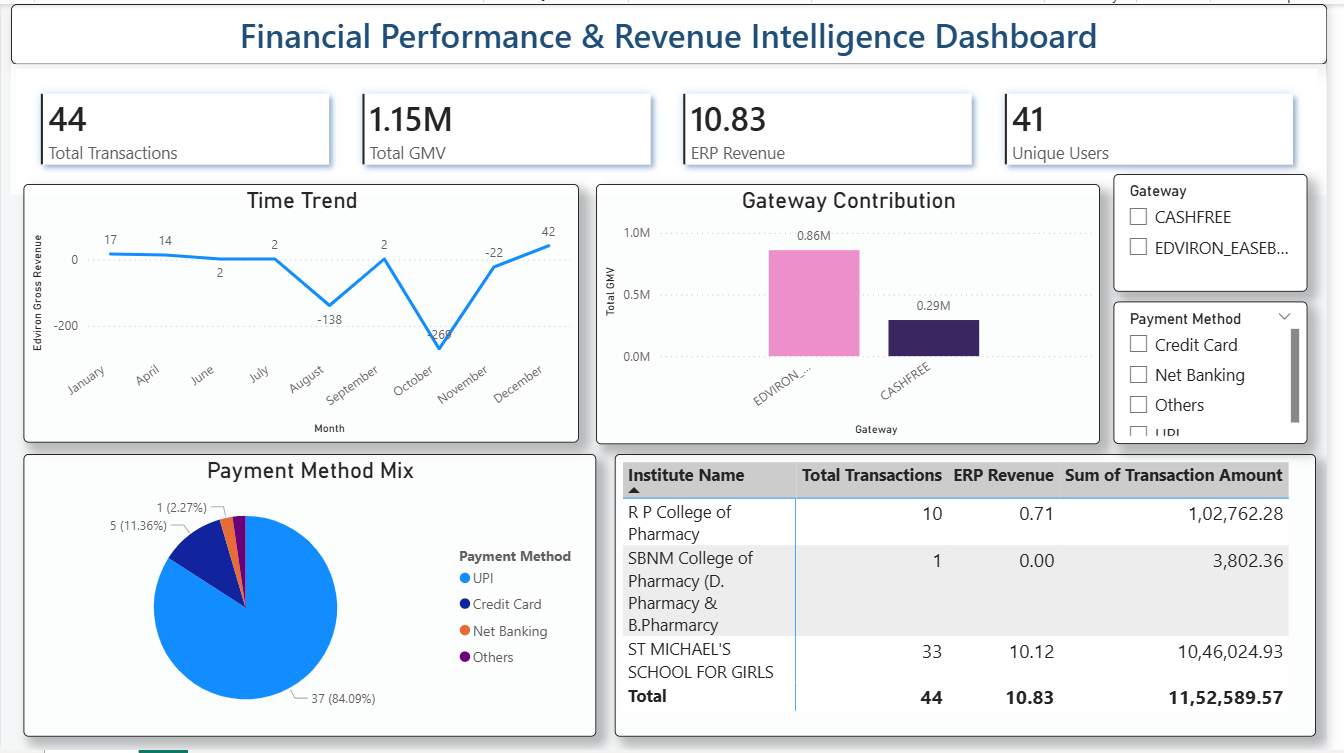

This screenshot's page, from the dashboard's own definition file:
{"tool":"powerbi","page":{"name":"Page 1","canvas":[1280,720],"ordinal":0},"visuals":[{"type":"textbox","box":[10,0,1270,58.4],"z":0},{"type":"cardVisual","fields":{"Data":["Commission Report.Total Transactions","Commission Report.Total GMV","Commission Report.ERP Revenue","Commission Report.Unique Users"]},"box":[10.1,58.3,1269.9,126.7],"z":1000},{"type":"lineChart","title":"Time Trend","fields":{"Category":["Commission Report.Date & Time.Variation.Date Hierarchy.Year","Commission Report.Date & Time.Variation.Date Hierarchy.Quarter","Commission Report.Date & Time.Variation.Date Hierarchy.Month"],"Y":["Commission Report.Edviron Gross Revenue"]},"box":[21.5,173.6,536.1,249.7],"z":2000},{"type":"columnChart","title":"Gateway Contribution","fields":{"Category":["Commission Report.Gateway"],"Y":["Commission Report.Total GMV"]},"box":[574.1,173.6,486.7,250.9],"z":3000},{"type":"pieChart","title":"Payment Method Mix","fields":{"Y":["Commission Report.Total Transactions"],"Category":["Commission Report.Payment Method"]},"box":[21.5,434.7,552.6,272.5],"z":4000},{"type":"pivotTable","title":"Payment Method Mix","fields":{"Values":["Commission Report.Total Transactions","Commission Report.ERP Revenue","Sum(Commission Report.Transaction Amount)"],"Rows":["Commission Report.Institute Name"]},"box":[591.8,434.7,676.8,272.5],"z":5000},{"type":"slicer","fields":{"Values":["Commission Report.Gateway"]},"box":[1073.4,162.2,195.2,115.3],"z":6000},{"type":"slicer","fields":{"Values":["Commission Report.Payment Method"]},"box":[1073.4,286.4,195.2,138.1],"z":7000}]}

Visuals, with their boxes in screenshot pixels (x1, y1, x2, y2), scaled from the page's 1280x720 canvas onto the 1344x753 screenshot:
textbox: left=10, top=0, right=1343, bottom=61
cardVisual - Commission Report.Total Transactions x Commission Report.Total GMV: left=11, top=61, right=1343, bottom=193
"Time Trend" lineChart: left=23, top=182, right=585, bottom=443
"Gateway Contribution" columnChart: left=603, top=182, right=1114, bottom=444
"Payment Method Mix" pieChart: left=23, top=455, right=603, bottom=740
"Payment Method Mix" pivotTable: left=621, top=455, right=1332, bottom=740
slicer - Commission Report.Gateway: left=1127, top=170, right=1332, bottom=290
slicer - Commission Report.Payment Method: left=1127, top=300, right=1332, bottom=444
